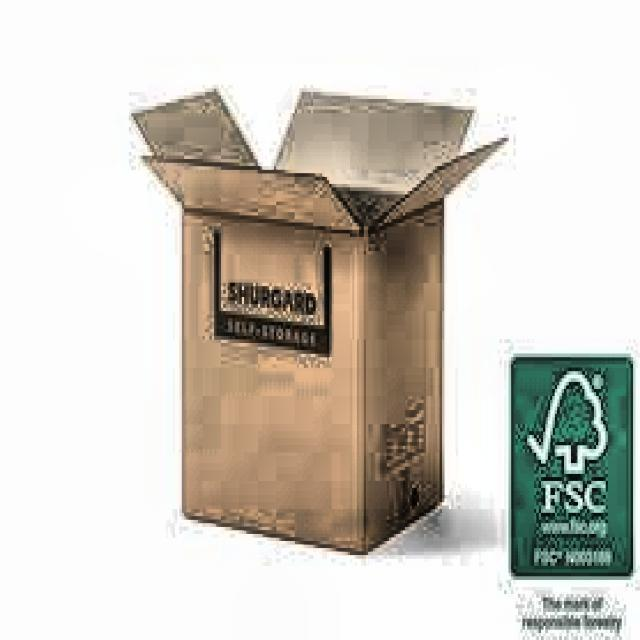cardboard: (128, 81, 506, 555)
